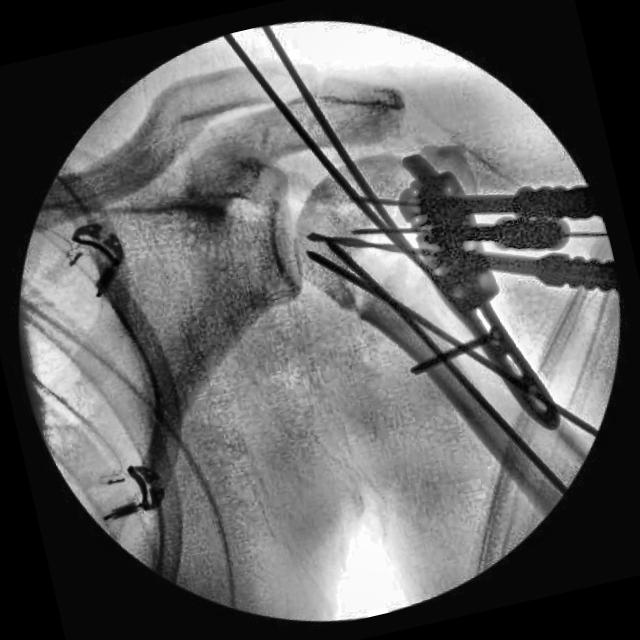shoulder fracture: (325, 275, 394, 355), (284, 56, 364, 112)
